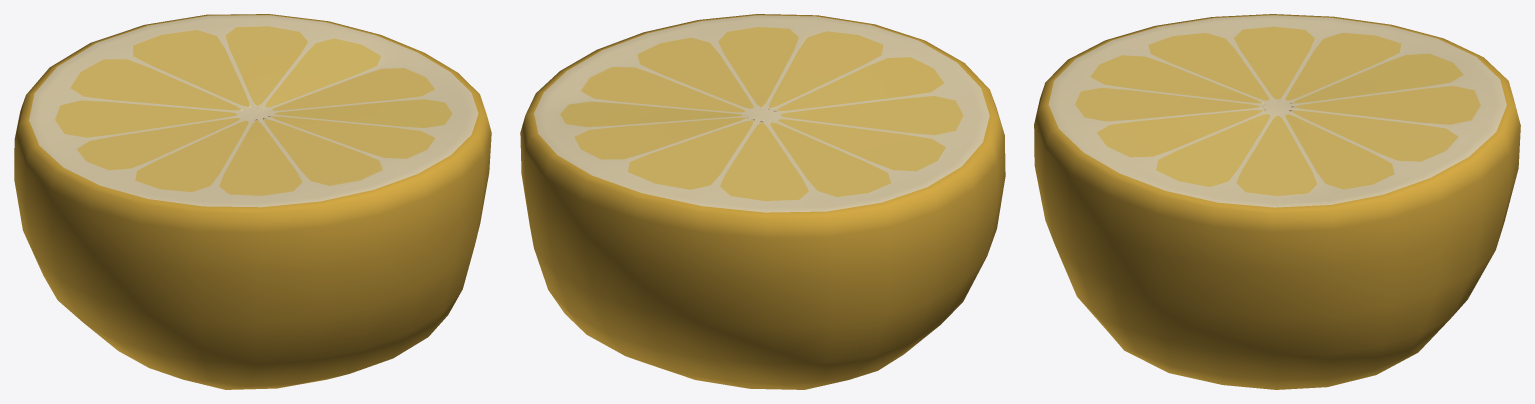
File: Lemoncut_01.dae
3 renders of one model, left to right at view 1: azimuth 30°, elevation 25°; view 2: azimuth 150°, elevation 25°; view 3: azimuth 270°, elevation 25°, orthographic.
Visible parts, largest first — view 1: Lemoncut_01_LOD0; view 2: Lemoncut_01_LOD0; view 3: Lemoncut_01_LOD0.
Boxes of the visible parts, box(x1,y1,x2,y2) form: Lemoncut_01_LOD0: box(14, 14, 491, 389); Lemoncut_01_LOD0: box(520, 14, 1005, 389); Lemoncut_01_LOD0: box(1034, 14, 1520, 389).
Size of what is drawn, in the model's own units: 3.72 by 3.74 by 2.25.
